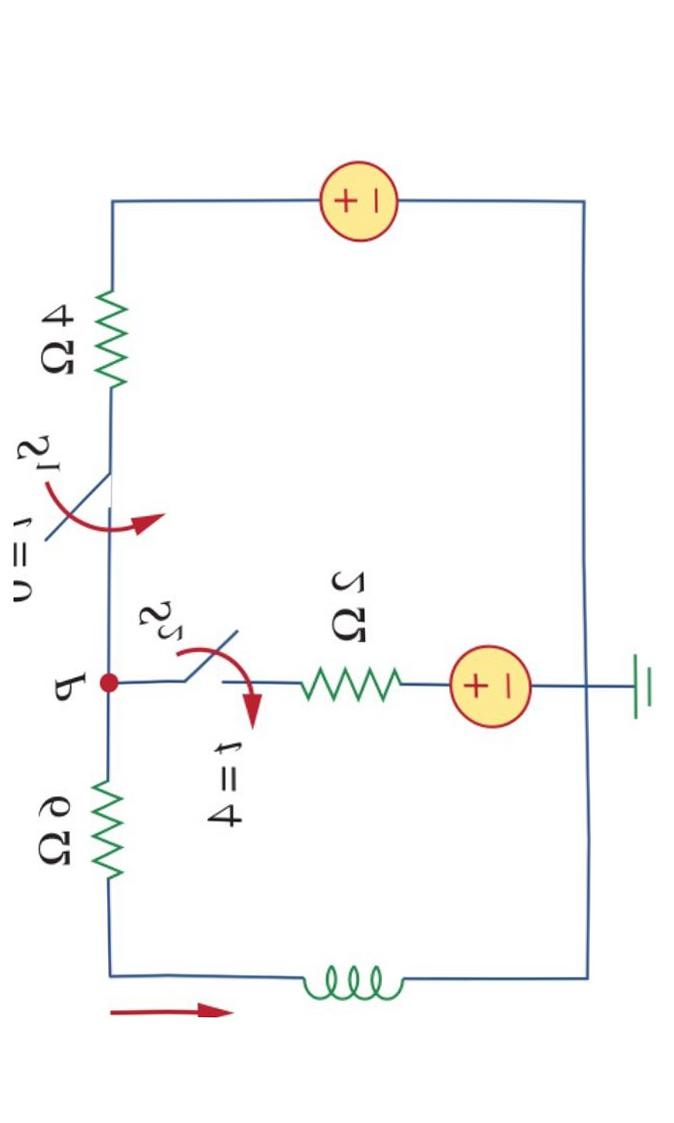Battery: (287, 128, 433, 280), (418, 605, 555, 760)
